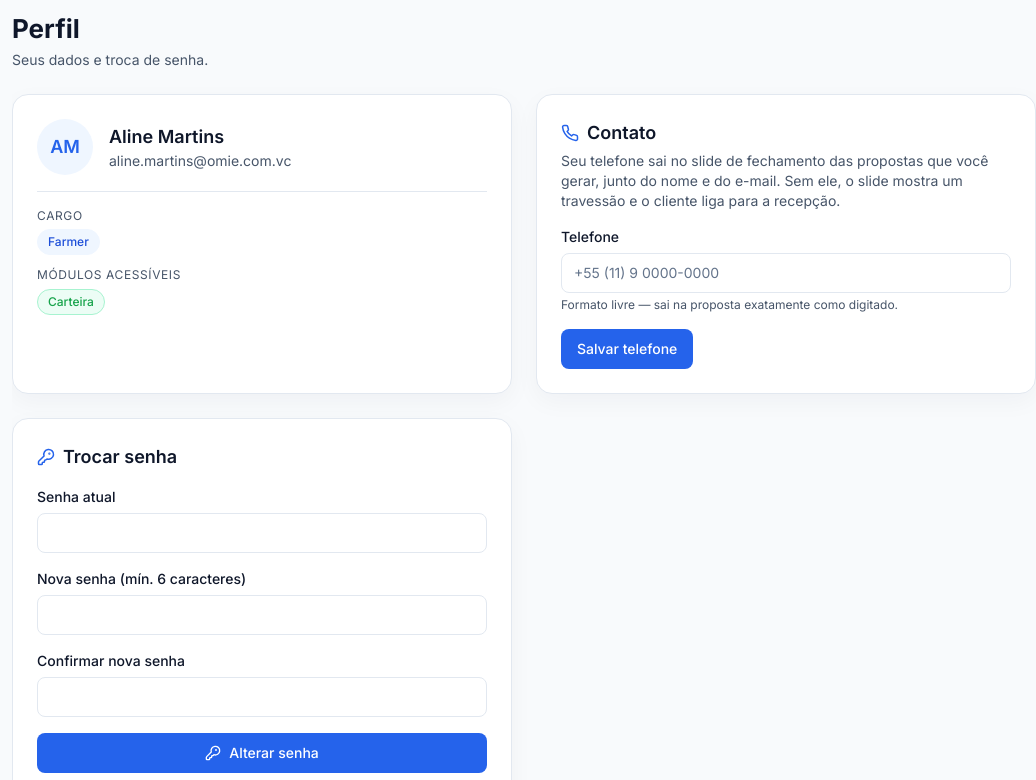
Test: Página Perfil › valida nova senha e confirmação batem
Type "123456" into the password field labelled "Senha atual" at [262, 533], box [37,513,487,553]
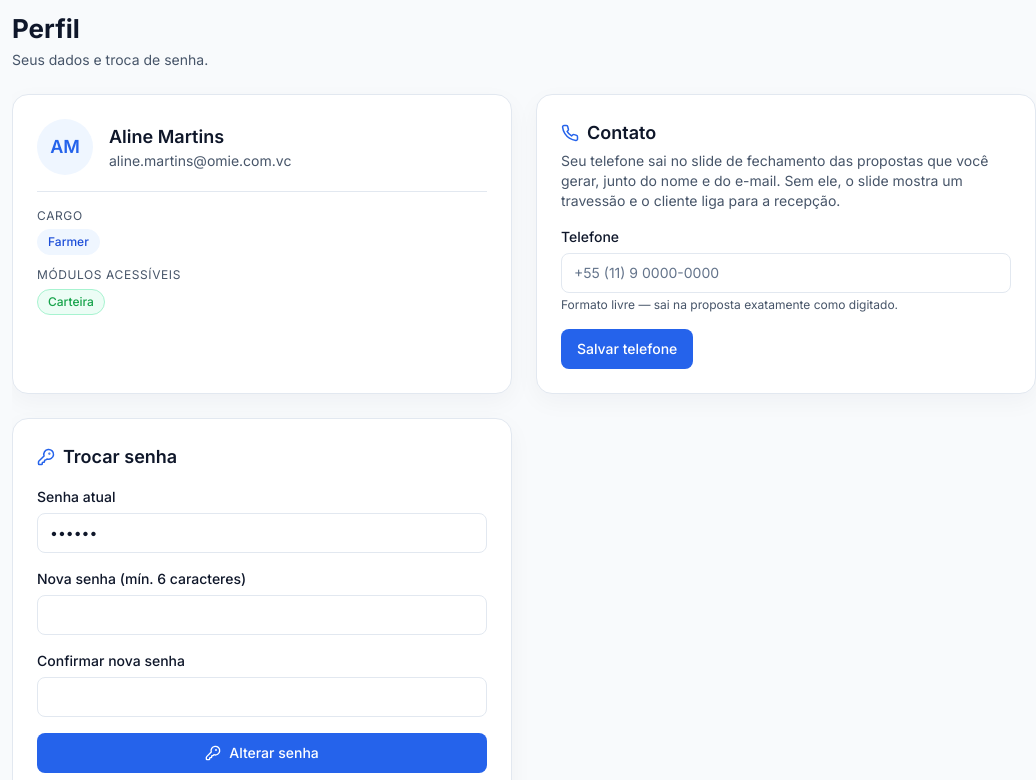
Type "novanova" into the password field labelled "Nova senha (mín. 6 caracteres)" at [262, 615], box [37,595,487,635]
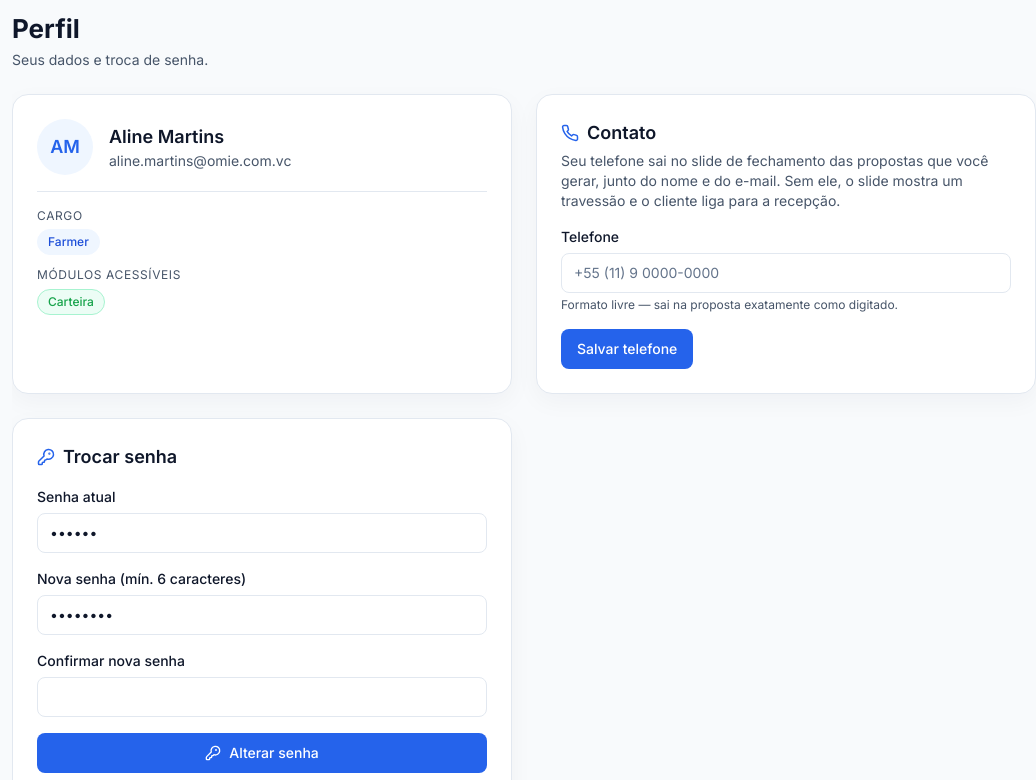
Type "diferente" into the password field labelled "Confirmar nova senha" at [262, 697], box [37,677,487,717]
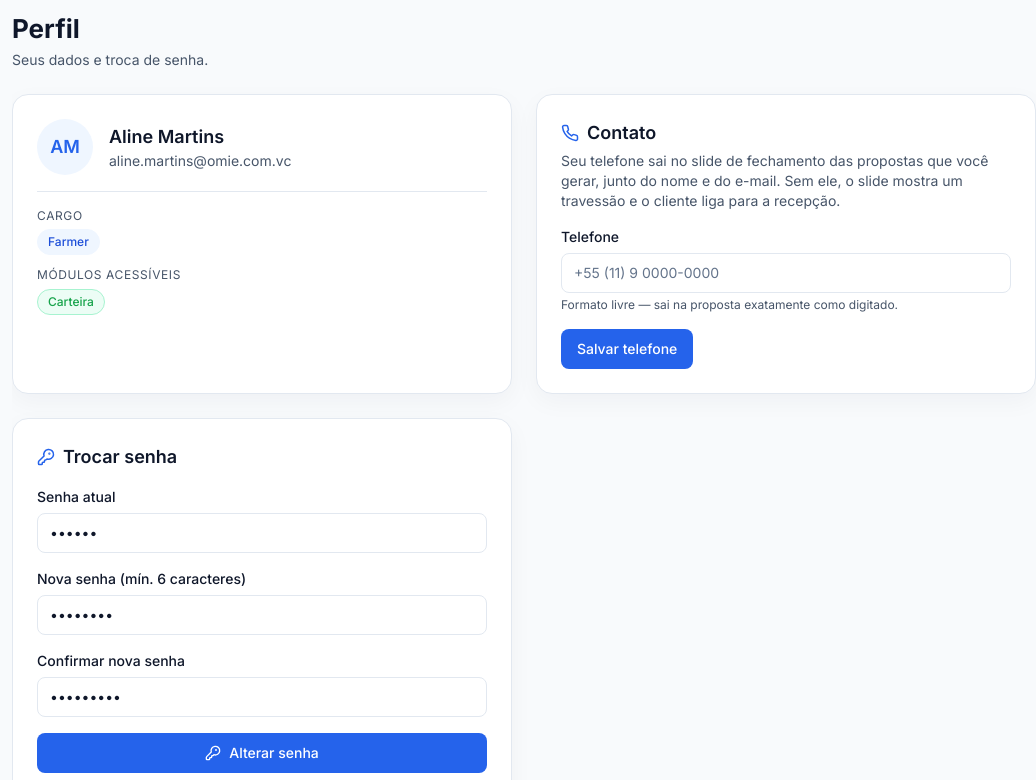
Click the button "Alterar senha" at [262, 753], box [37,733,487,773]
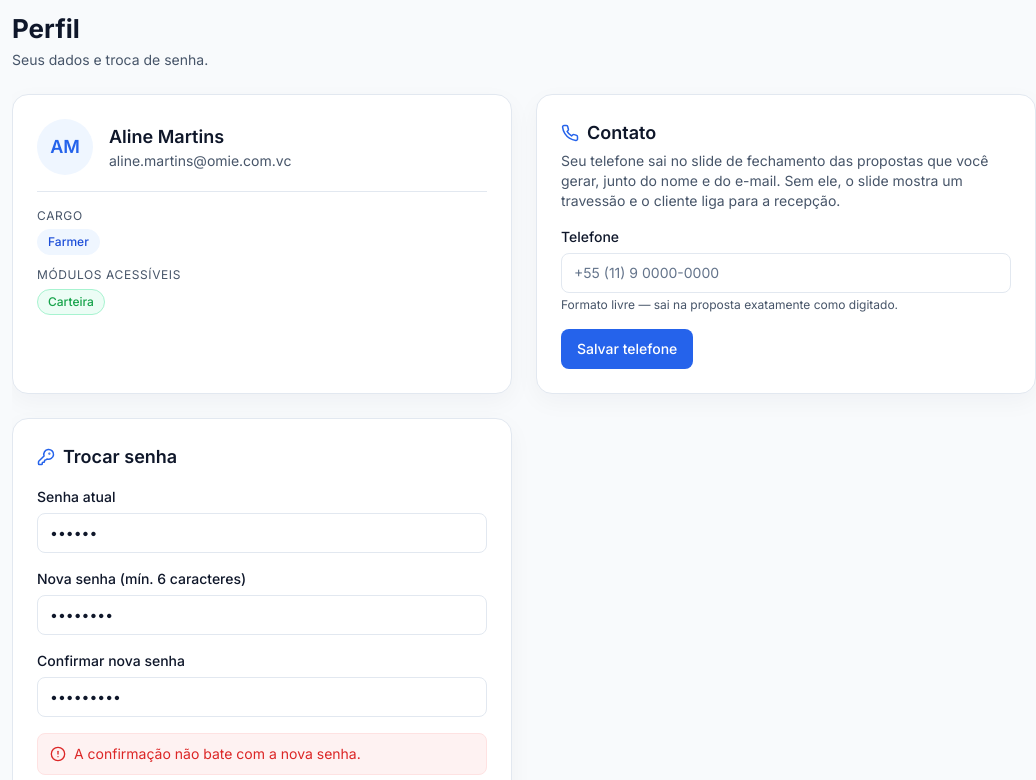
expect the text "A confirmação não bate com a nova senha." is shown: met, box [74,744,361,764]
